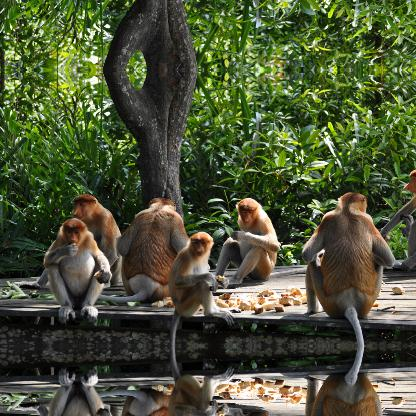Monkey: (300, 194, 398, 344), (98, 197, 192, 305), (43, 218, 115, 322), (300, 346, 399, 415), (167, 227, 227, 329), (213, 194, 281, 282), (70, 193, 122, 286), (43, 367, 116, 415), (381, 170, 415, 268), (167, 361, 228, 415), (98, 385, 192, 415)
